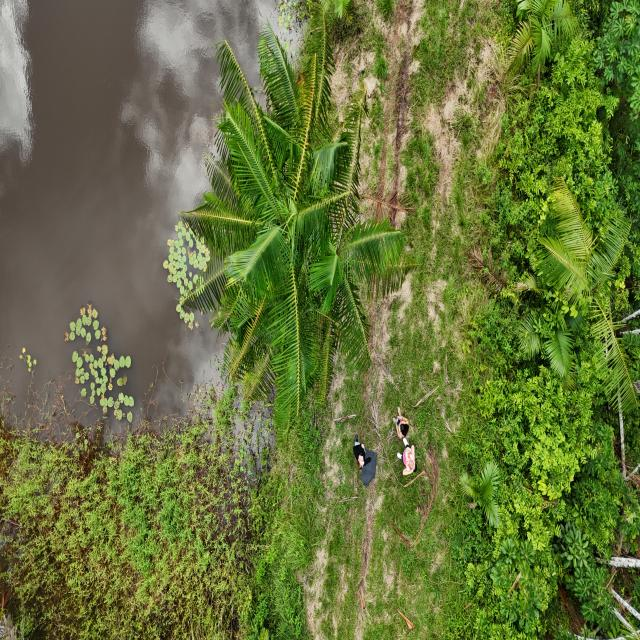vegetation: (163, 2, 417, 450)
